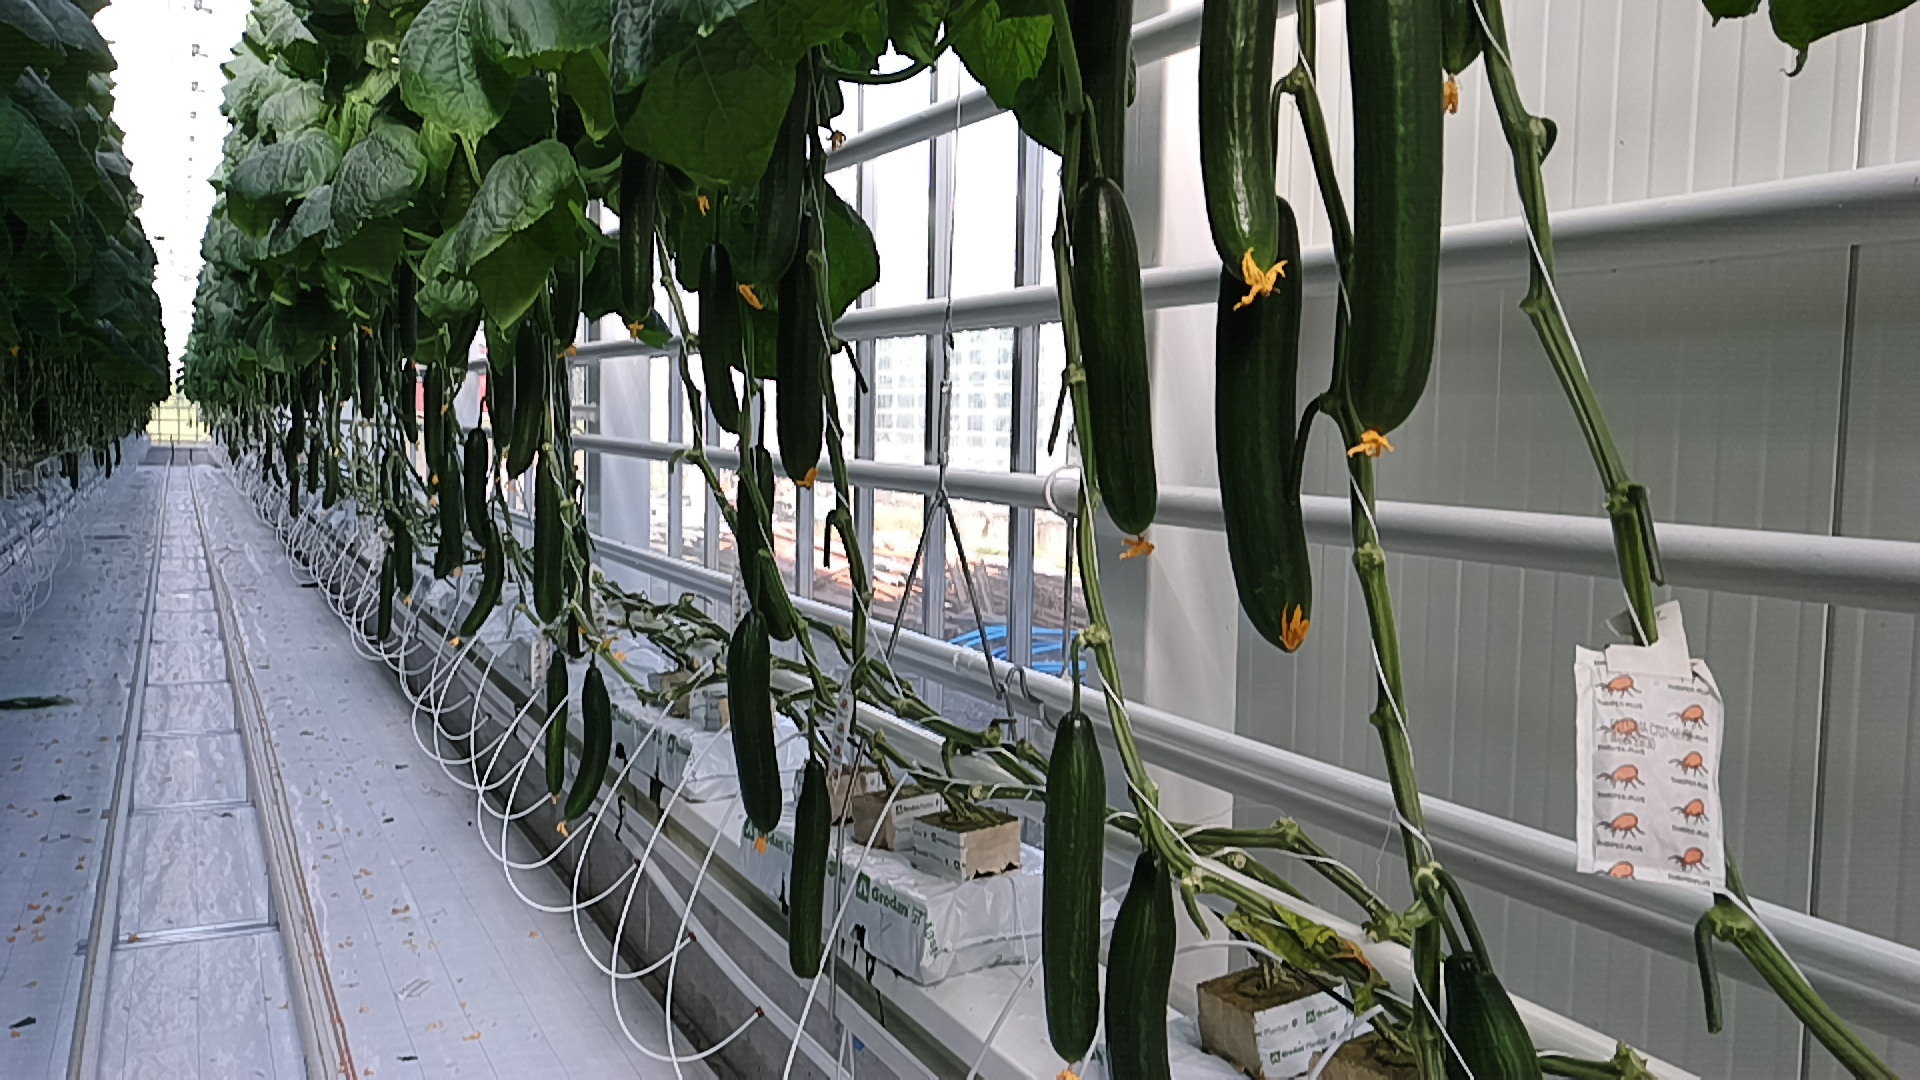gurka: (1213, 179, 1325, 667), (1054, 158, 1183, 563), (1036, 700, 1110, 1067), (724, 603, 800, 847), (783, 749, 837, 984), (564, 659, 625, 833), (529, 436, 574, 642), (462, 422, 504, 554), (541, 647, 576, 803), (375, 547, 400, 649)
